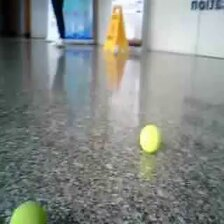tennis: (9, 201, 46, 224), (139, 125, 161, 154)
